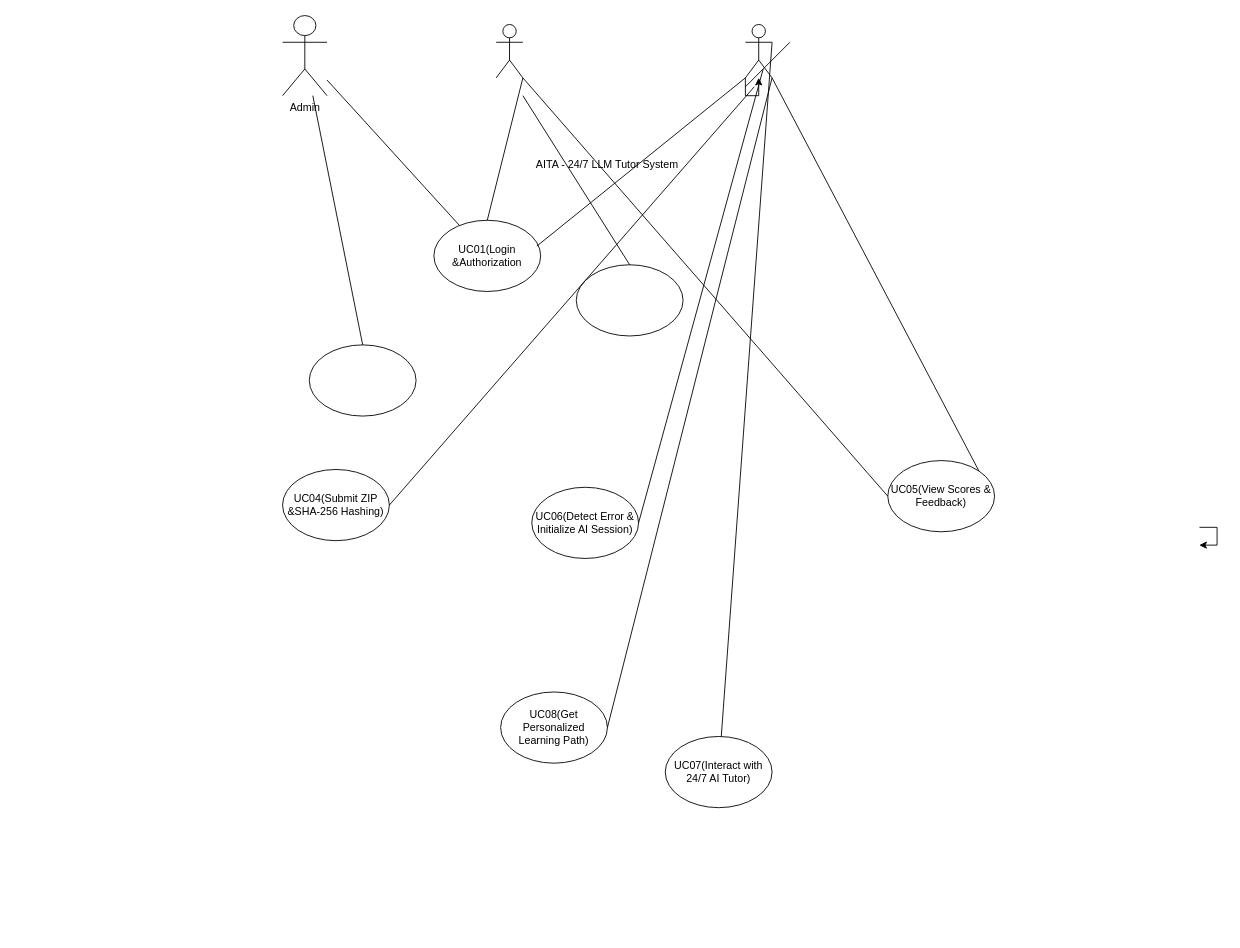
The diagram is 1240 pixels wide and 948 high, and some of its shapes have lost their labels. The shapes that lost their labels are listed below. From the top down, each one's centre as x and y in pixels, then its label:
point 509,51: Instructor
point 758,51: Student
point 629,300: UC03(Manage Assignments)
point 362,380: UC02(Manage User List)
